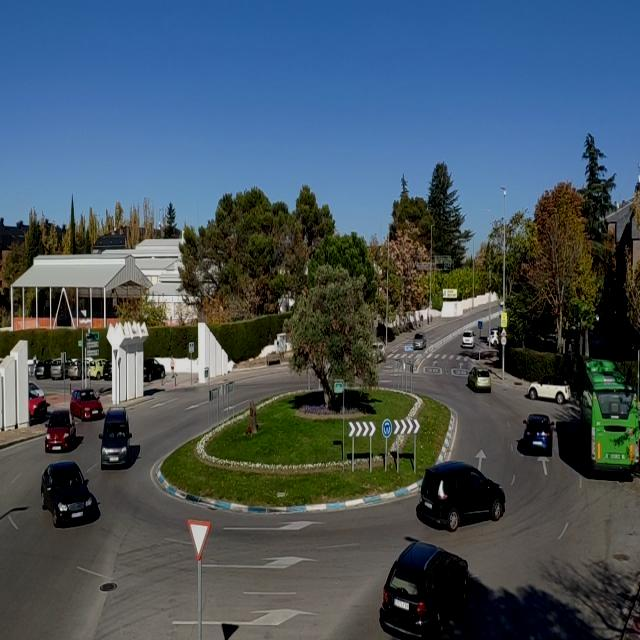Bus: (580, 358, 637, 474)
Car: (377, 541, 469, 636), (419, 461, 508, 528), (41, 459, 98, 526), (98, 406, 131, 468), (518, 414, 556, 454), (526, 373, 570, 403), (44, 409, 72, 452), (70, 388, 104, 421), (468, 364, 494, 392)
